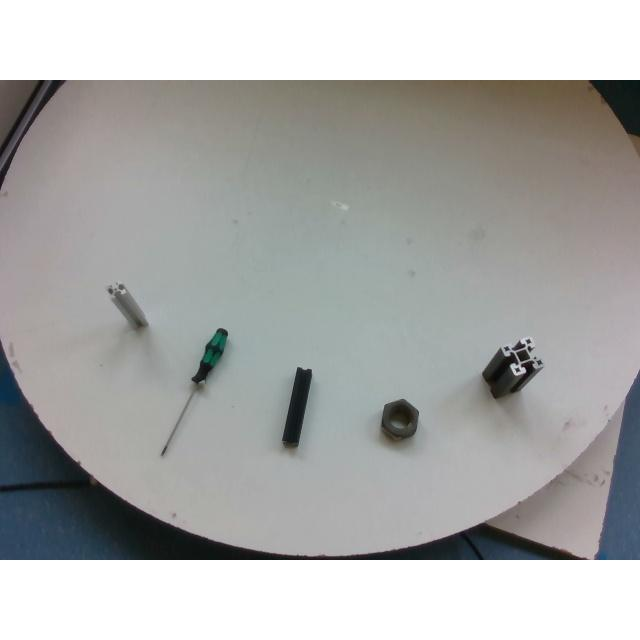F20_20_B: (282, 366, 310, 446)
F20_20_G: (106, 282, 148, 330)
M30: (382, 399, 418, 439)
S40_40_B: (482, 338, 542, 398)
Screwdriver: (158, 330, 226, 456)
